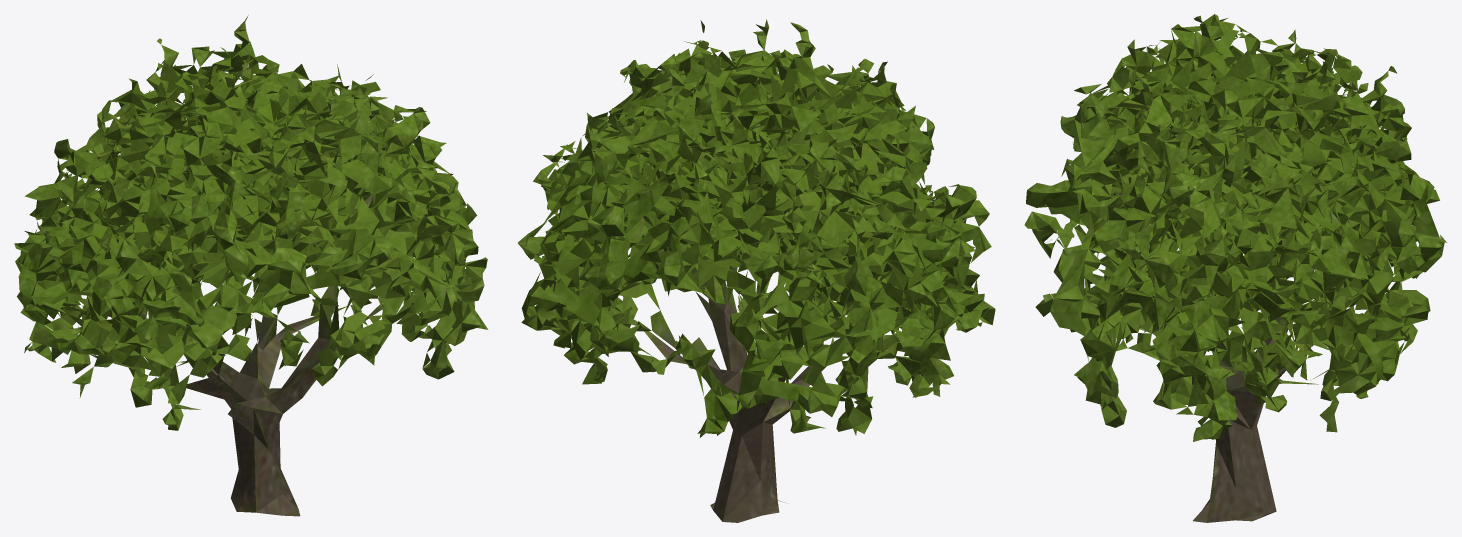
The model's file is e4mango.glb.
3 views of the same model, side by side, from view 1: azimuth 30°, elevation 25°; view 2: azimuth 150°, elevation 25°; view 3: azimuth 270°, elevation 25° (orthographic). The views are drawn at different scales.
Parts seen in each view (by area): view 1: output_unwrapped; view 2: output_unwrapped; view 3: output_unwrapped.
Part boxes in pixels (box(x1,y1,x2,y2)): output_unwrapped: box(14, 15, 488, 516); output_unwrapped: box(518, 19, 995, 522); output_unwrapped: box(1024, 14, 1446, 522).
Size of the model in its own units: 0.9722 by 1 by 0.7971.
Materials: 1 (1 with a texture image).
